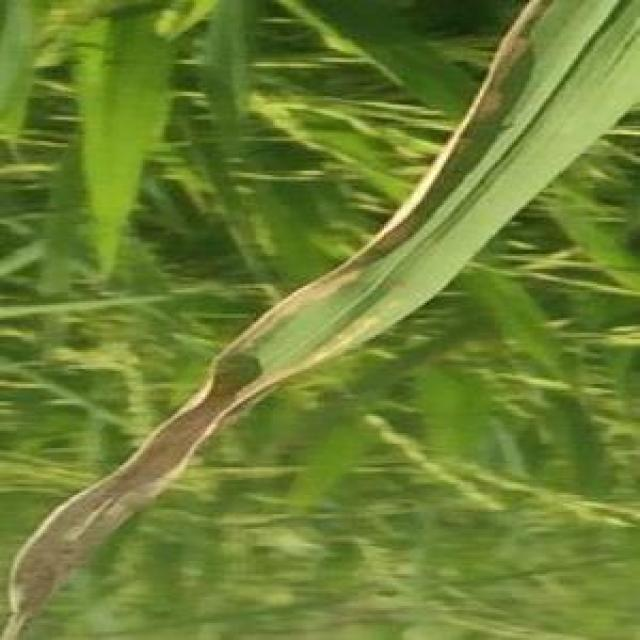Bacterial_Blight: (194, 0, 542, 378), (0, 367, 244, 640)
